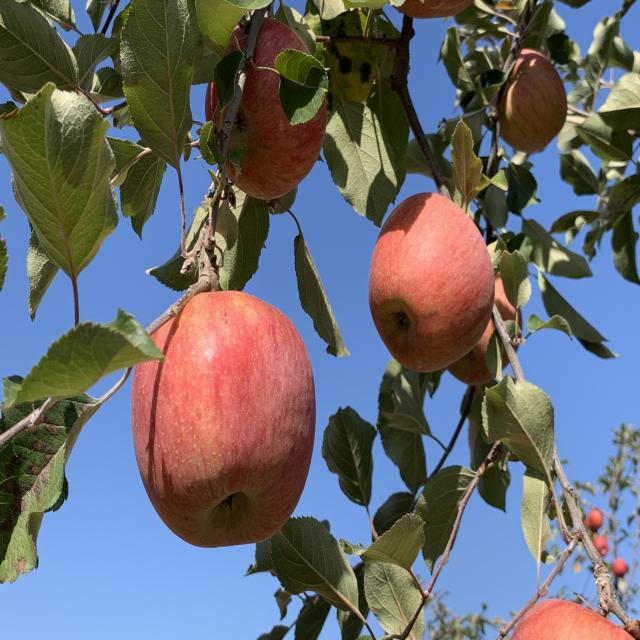fresh: (127, 284, 322, 557), (363, 183, 503, 380)
